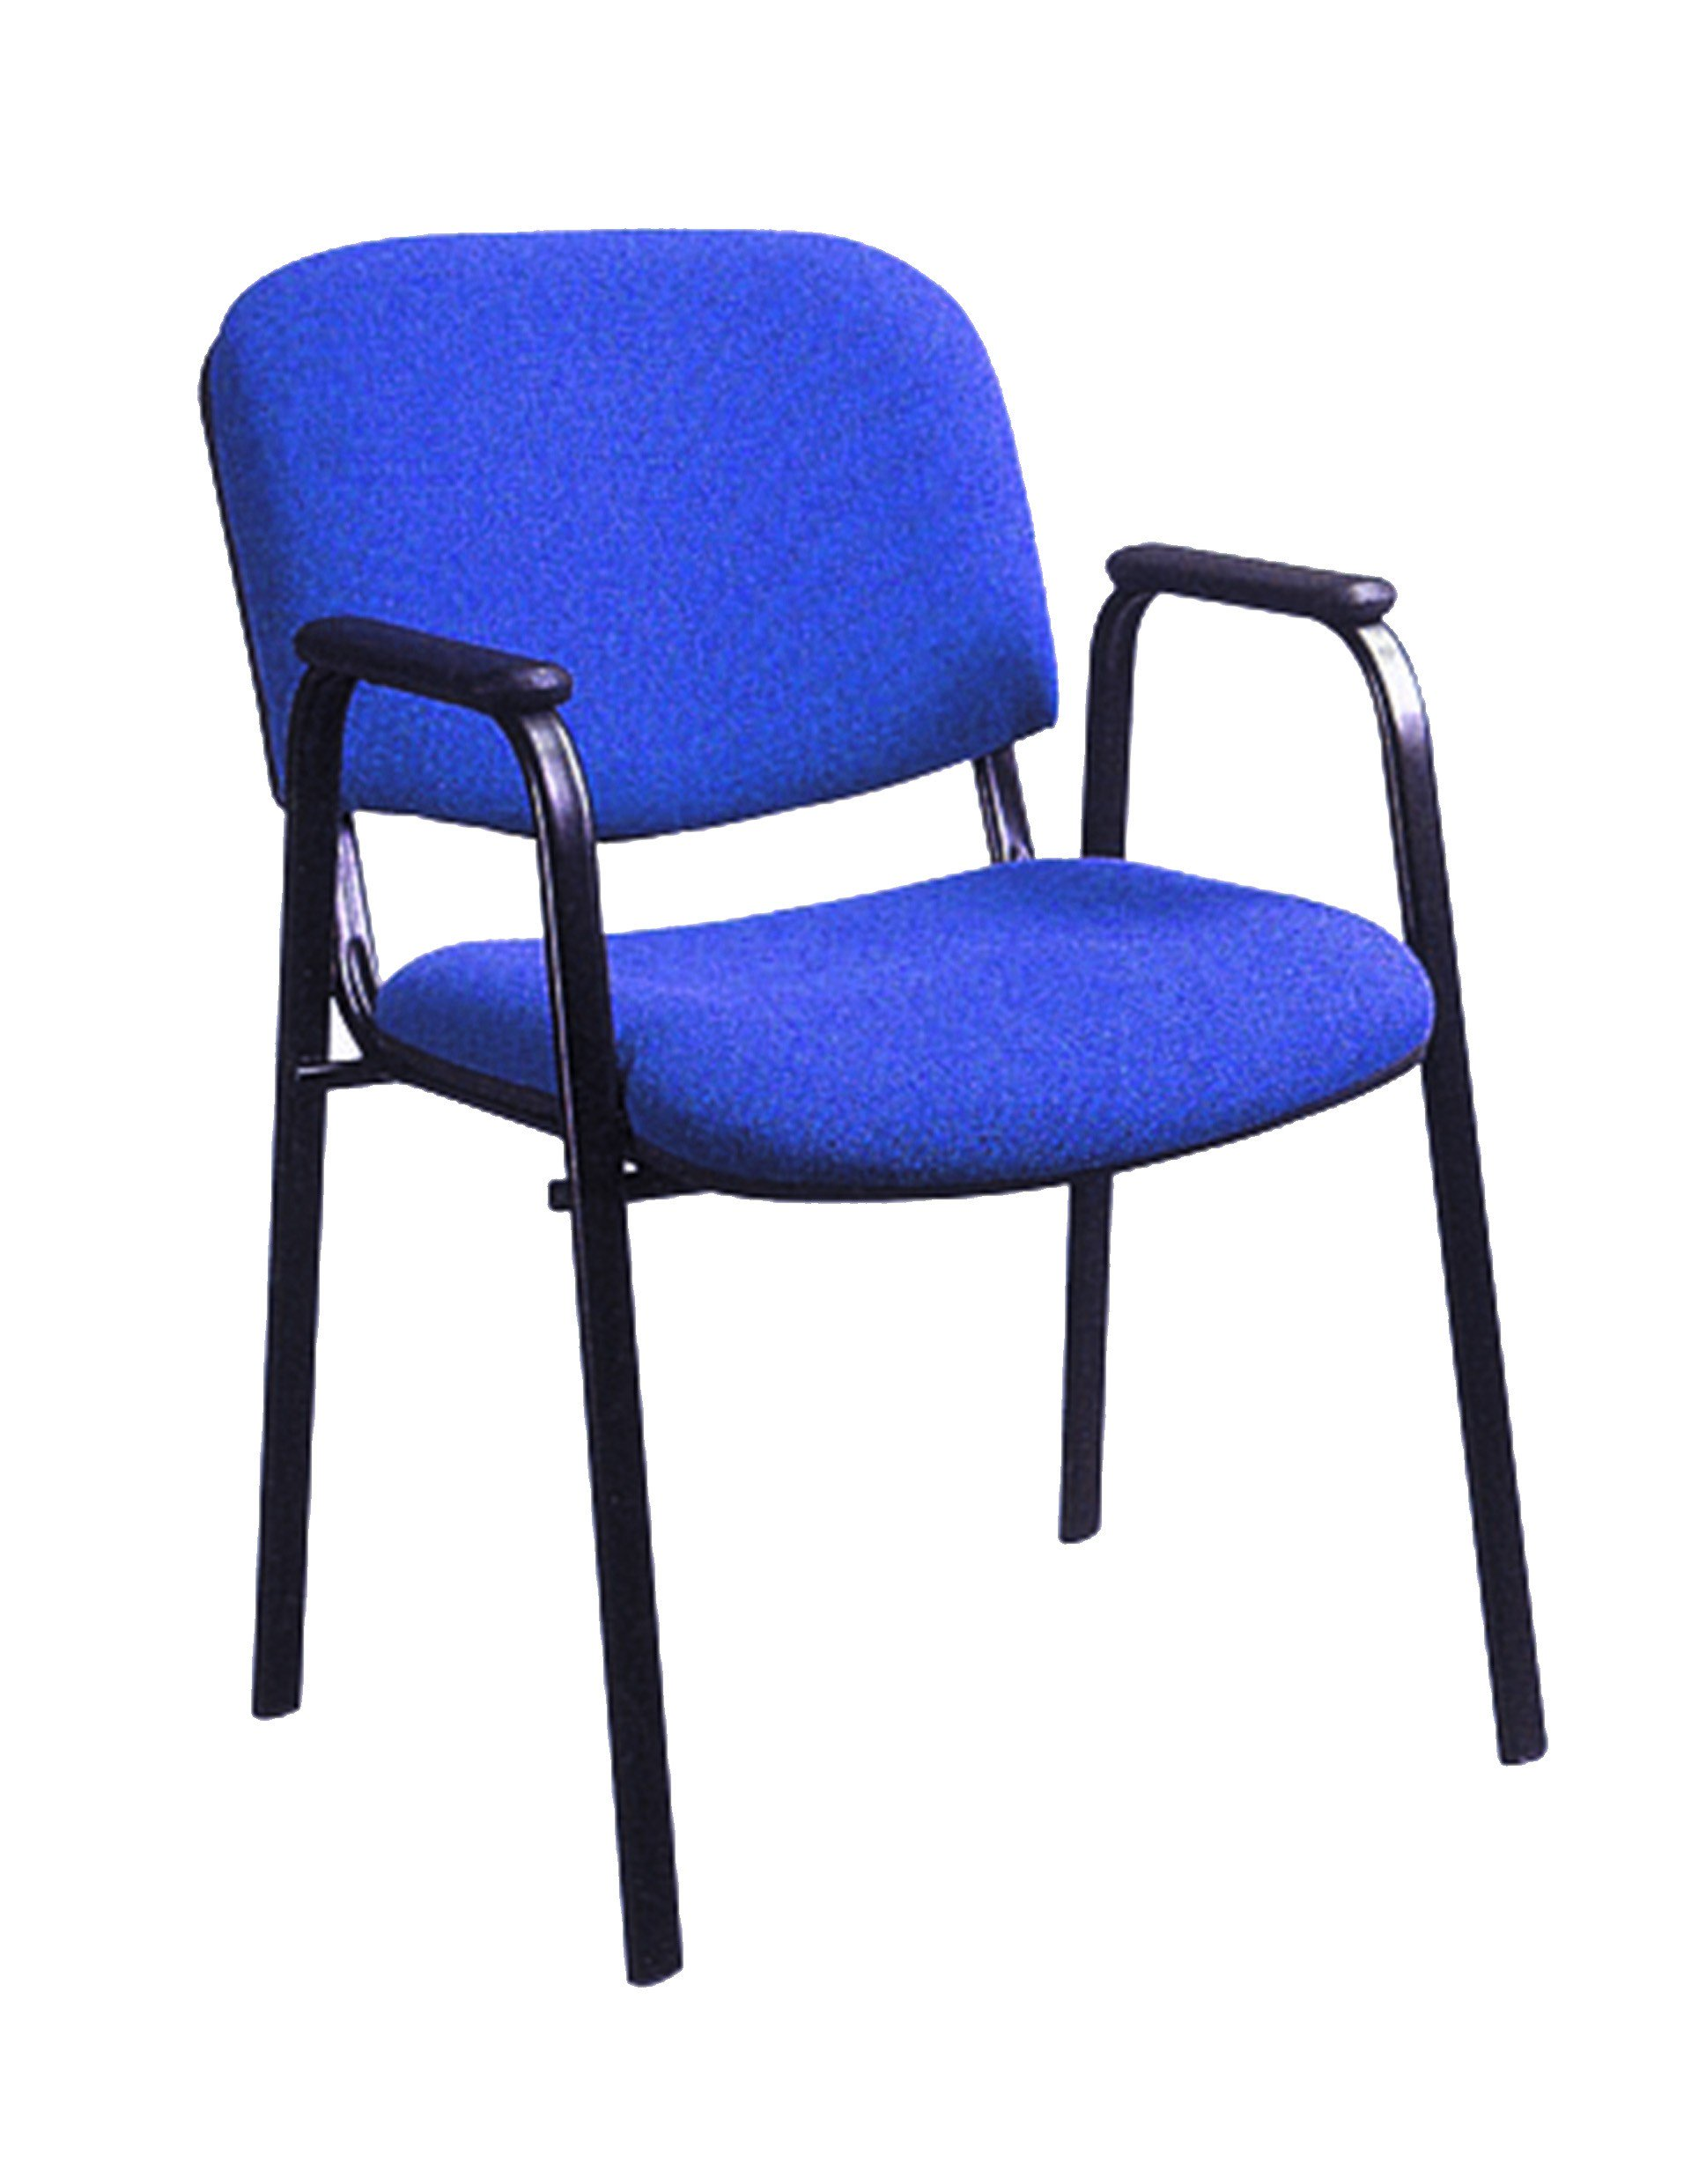chairs: (113, 214, 1562, 2000)
